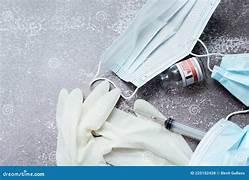Glove: (56, 81, 191, 164)
Iv_Bottle: (159, 57, 204, 87)
Mask: (102, 0, 219, 87), (190, 118, 248, 165), (212, 54, 249, 106)
